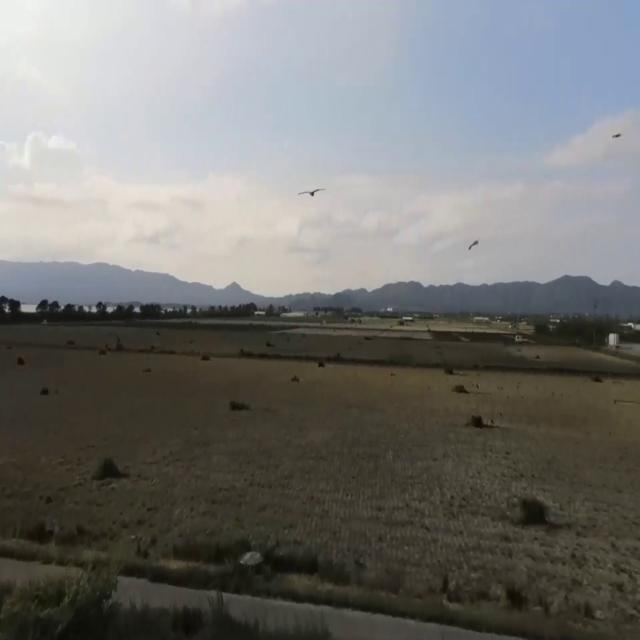bird: (301, 179, 324, 210), (467, 232, 480, 260), (612, 124, 622, 150)
